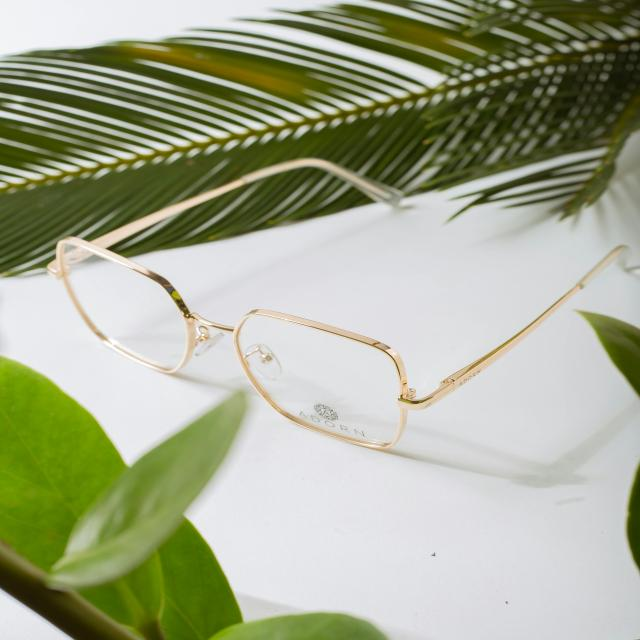oculos: (42, 152, 638, 454)
